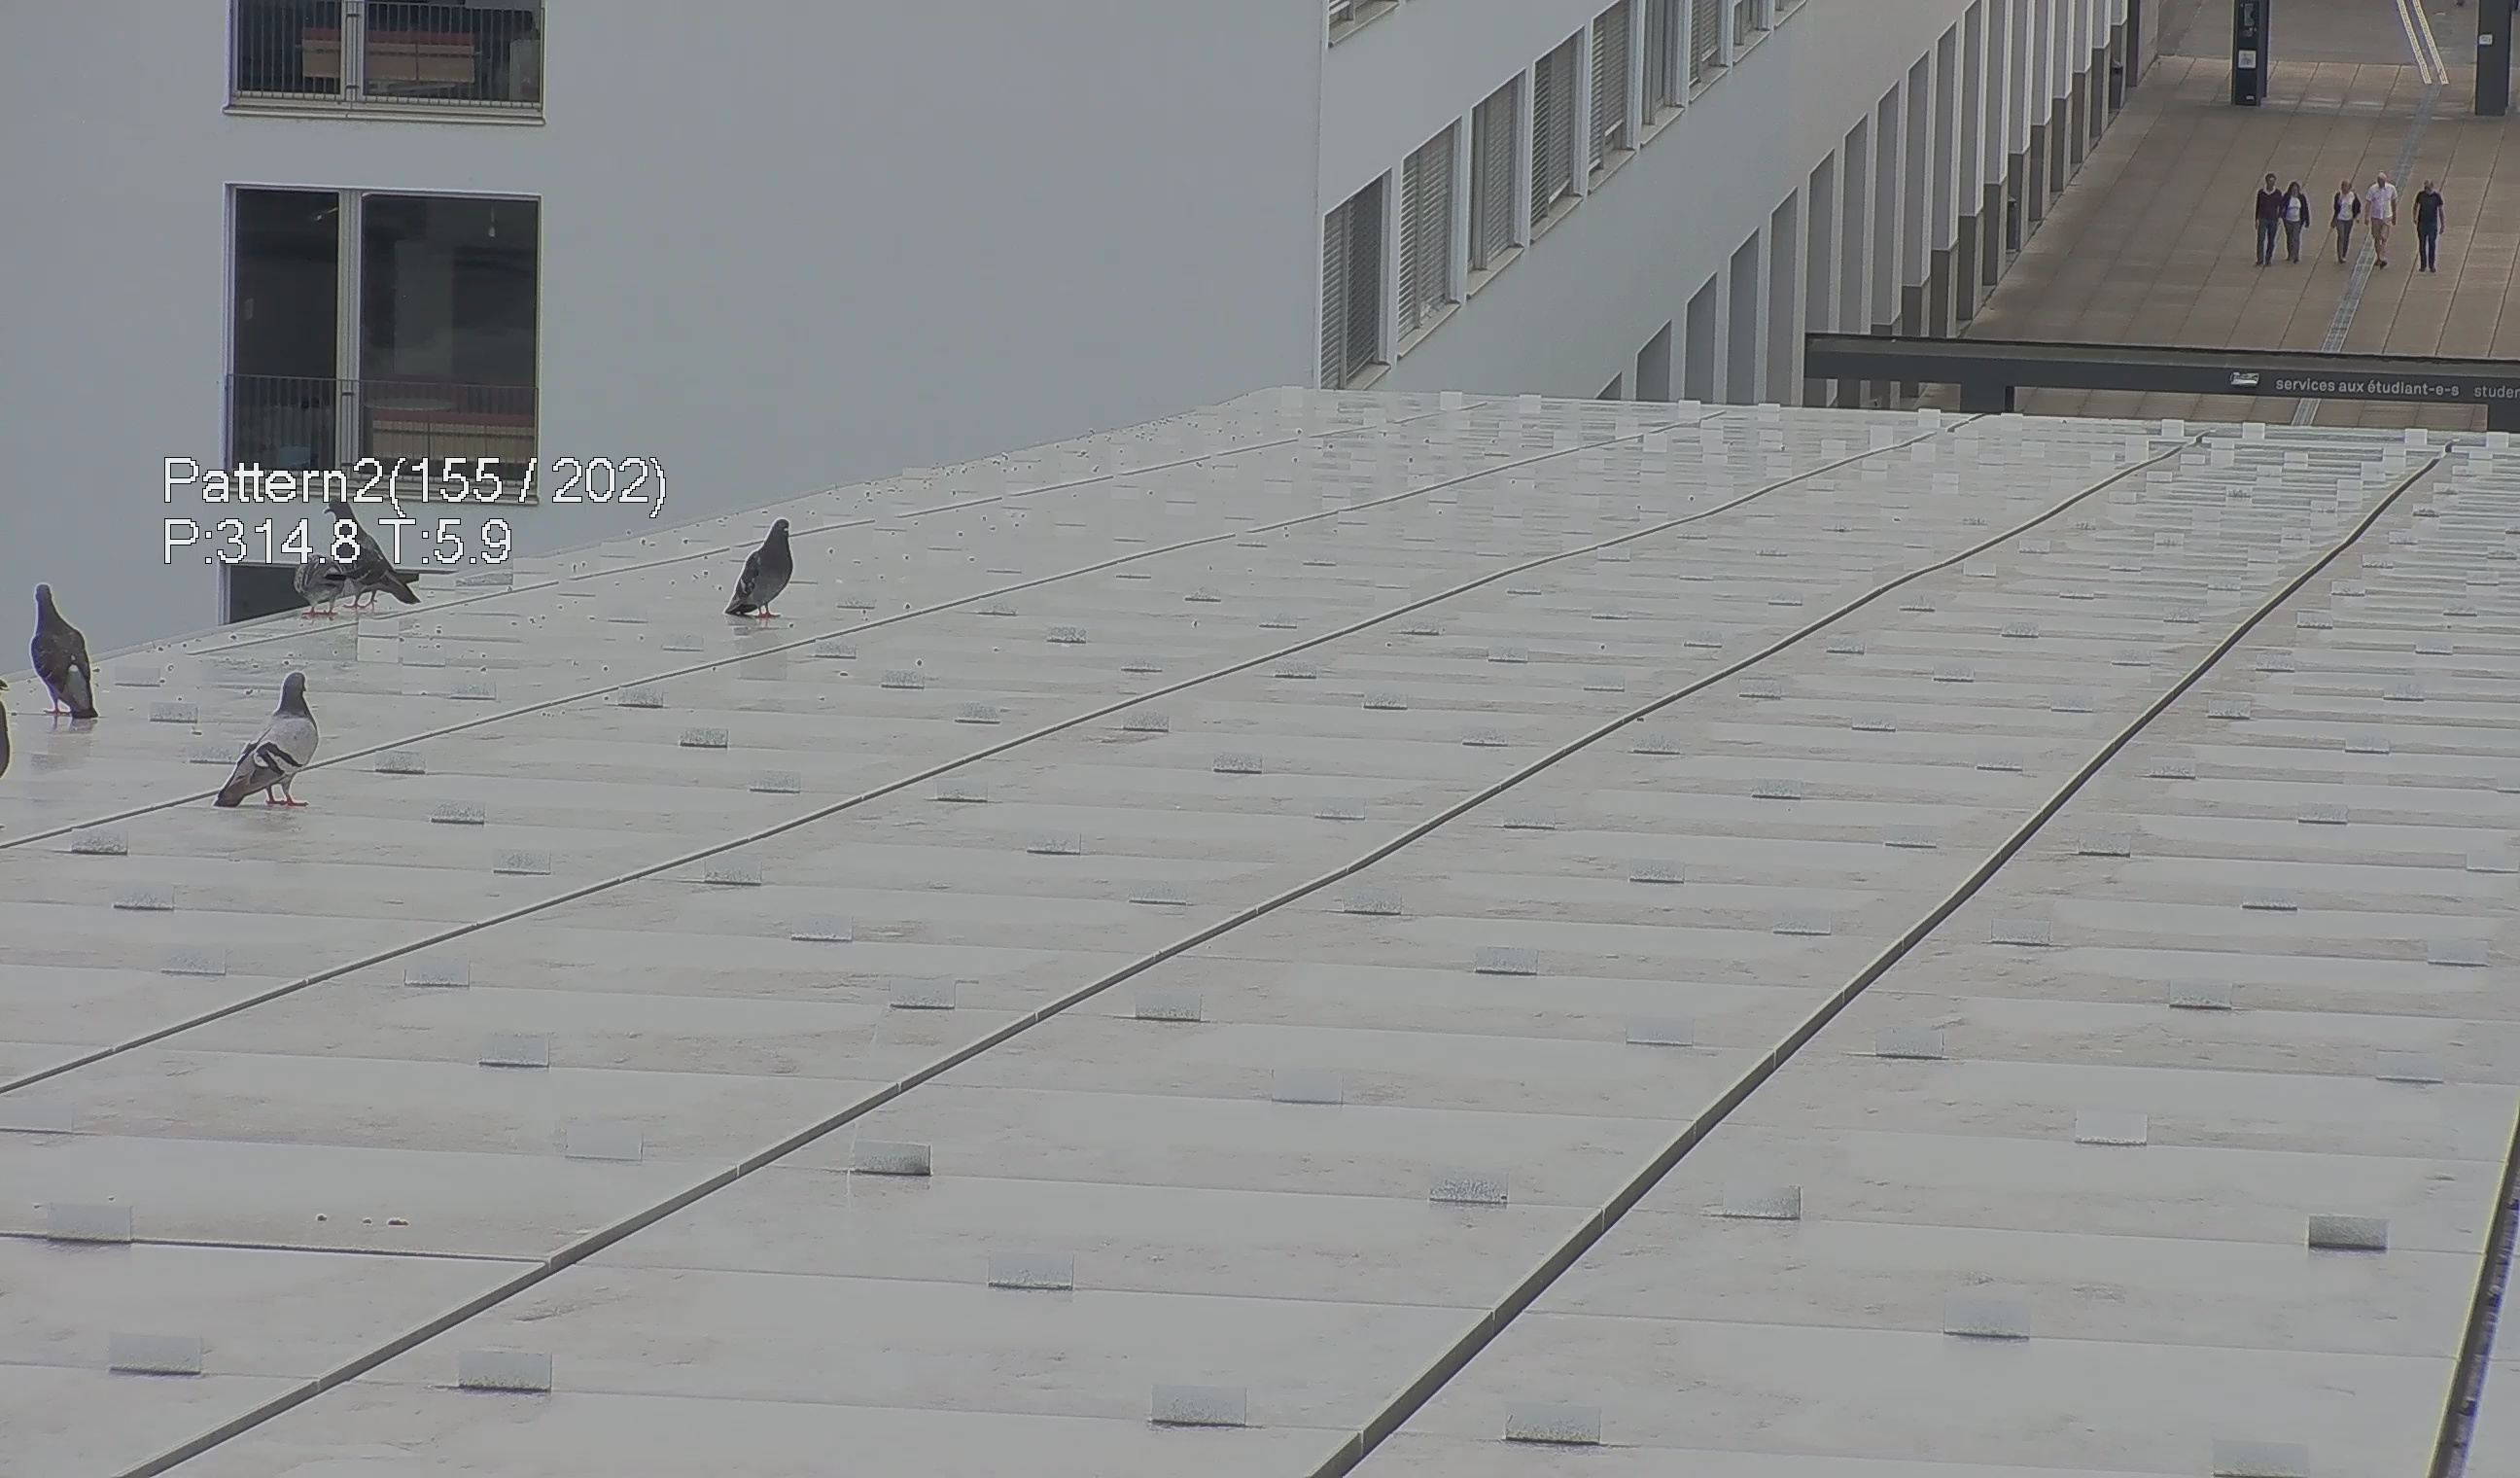Pigeon: (213, 662, 336, 820), (25, 577, 125, 737), (331, 500, 427, 612), (712, 507, 795, 630), (285, 542, 353, 616)
